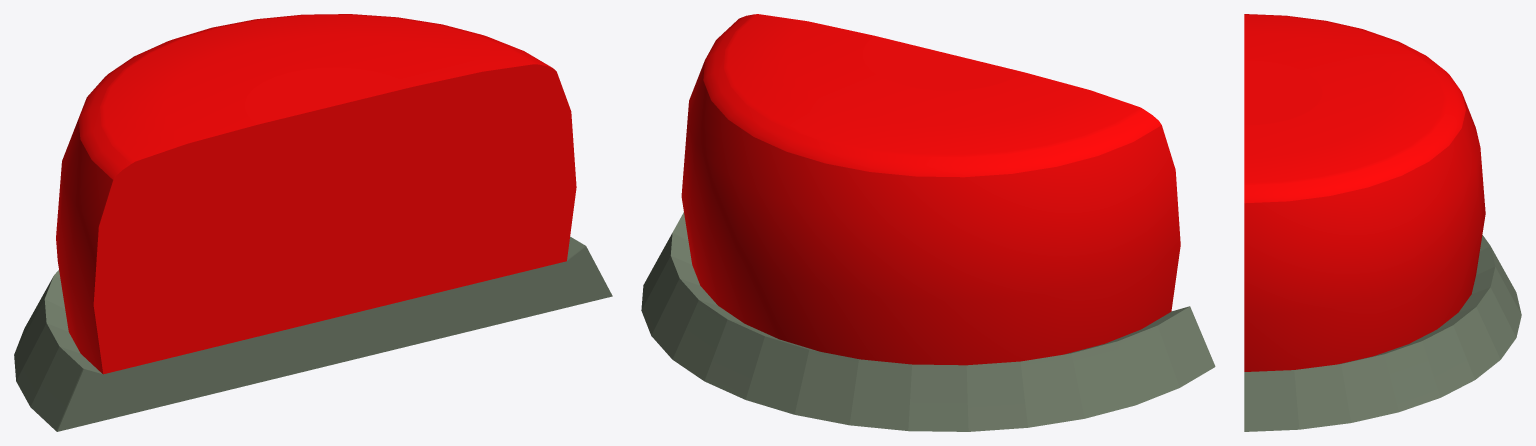
File: semi circle button.fbx
3 renders of one model, left to right at view 1: azimuth 30°, elevation 25°; view 2: azimuth 150°, elevation 25°; view 3: azimuth 270°, elevation 25°, orthographic. The views are drawn at different scales.
Parts seen in each view (by area): view 1: Cylinder.002; view 2: Cylinder.002; view 3: Cylinder.002.
Part boxes in pixels (x1=…): Cylinder.002: x1=14, y1=14, x2=612, y2=431; Cylinder.002: x1=641, y1=14, x2=1215, y2=431; Cylinder.002: x1=1244, y1=14, x2=1521, y2=431.
Bounding box in the file's own units: 151 × 66.96 × 75.73.
1 material, 1 textured.
